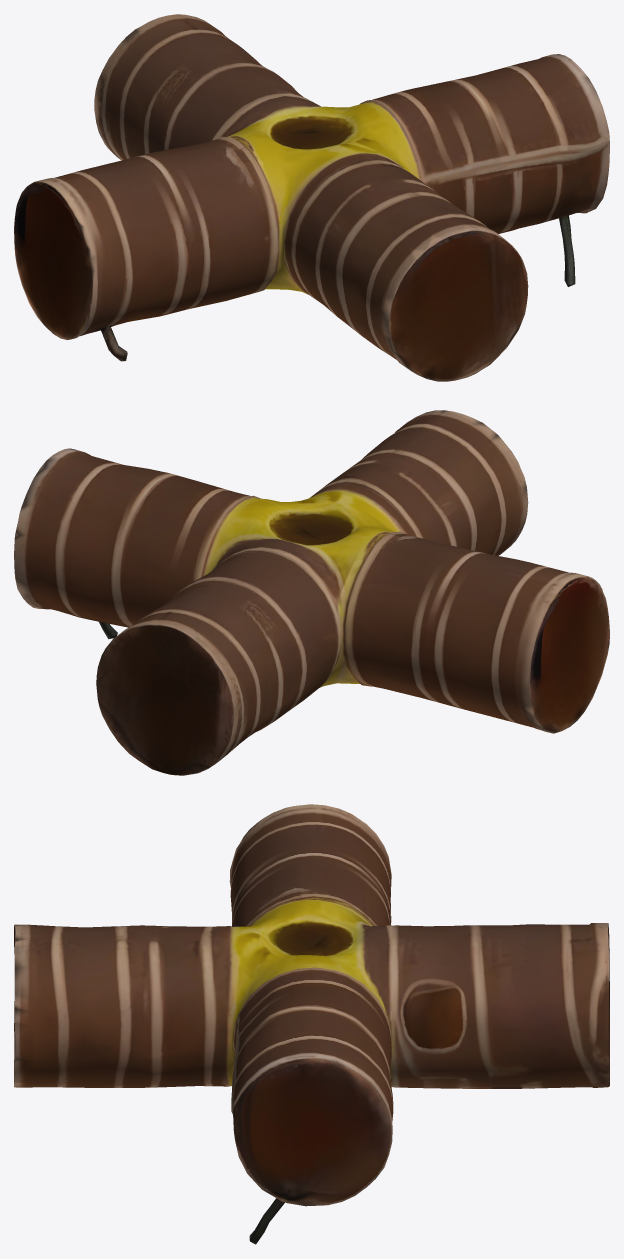
The model's file is tripo_convert_e43591d0-c61d-4565-89ff-ec3c400120c3.fbx.
3 views of the same model, one above another, from view 1: azimuth 30°, elevation 25°; view 2: azimuth 150°, elevation 25°; view 3: azimuth 270°, elevation 25° (orthographic).
Parts seen in each view (by area): view 1: tripo_node_e43591d0; view 2: tripo_node_e43591d0; view 3: tripo_node_e43591d0.
Part boxes in pixels (left/top/right/bottom): tripo_node_e43591d0: left=14, top=14, right=609, bottom=381; tripo_node_e43591d0: left=14, top=410, right=609, bottom=775; tripo_node_e43591d0: left=14, top=804, right=609, bottom=1244.
Size of the model in its own units: 1 by 0.3663 by 0.9847.
Materials: 1 (1 with a texture image).
